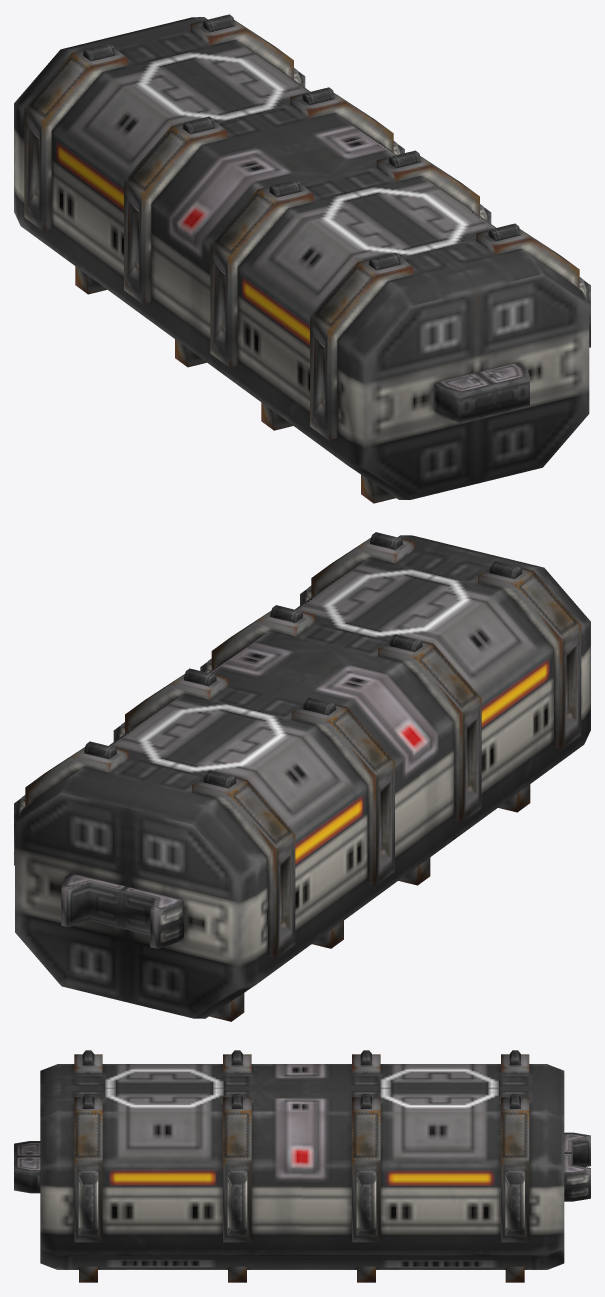
The model's file is container_medium.glb.
3 views of the same model, one above another, from view 1: azimuth 30°, elevation 25°; view 2: azimuth 150°, elevation 25°; view 3: azimuth 270°, elevation 25° (orthographic). The views are drawn at different scales.
Parts seen in each view (by area): view 1: scenery; view 2: scenery; view 3: scenery.
Part boxes in pixels (x1=…): scenery: x1=14, y1=14, x2=590, y2=503; scenery: x1=14, y1=532, x2=590, y2=1021; scenery: x1=14, y1=1050, x2=590, y2=1282.
Size of the model in its own units: 0.2677 by 0.2267 by 0.668.
Materials: 1 (1 with a texture image).
